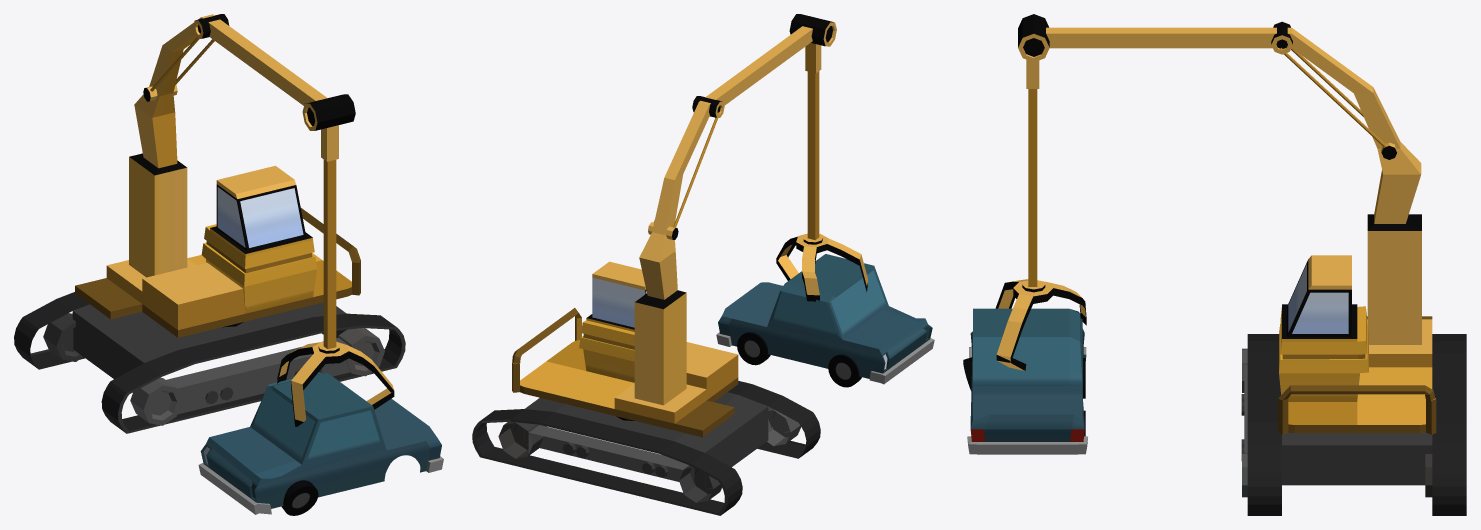
Rendered from Guicho.glb.
3 views of the same model, side by side, from view 1: azimuth 30°, elevation 25°; view 2: azimuth 150°, elevation 25°; view 3: azimuth 270°, elevation 25° (orthographic). The views are drawn at different scales.
Parts seen in each view (by area): view 1: BaseGiratoria, GuichoBase; view 2: BaseGiratoria, GuichoBase; view 3: BaseGiratoria, GuichoBase.
Part boxes in pixels (box(x1,y1,x2,y2)): BaseGiratoria: box(75, 14, 443, 515); GuichoBase: box(14, 292, 405, 433); BaseGiratoria: box(512, 14, 934, 437); GuichoBase: box(472, 381, 820, 515); BaseGiratoria: box(963, 14, 1436, 454); GuichoBase: box(1241, 334, 1466, 515).
Size of the model in its own units: 6.39 by 8.16 by 9.19.
1 material, 1 textured.
